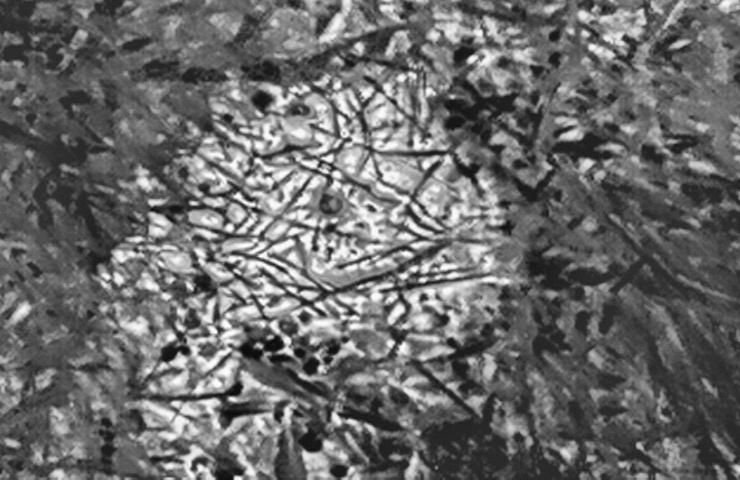landmines: (141, 68, 521, 418)
